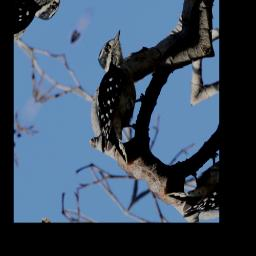Woodpecker: (58, 23, 181, 171)
